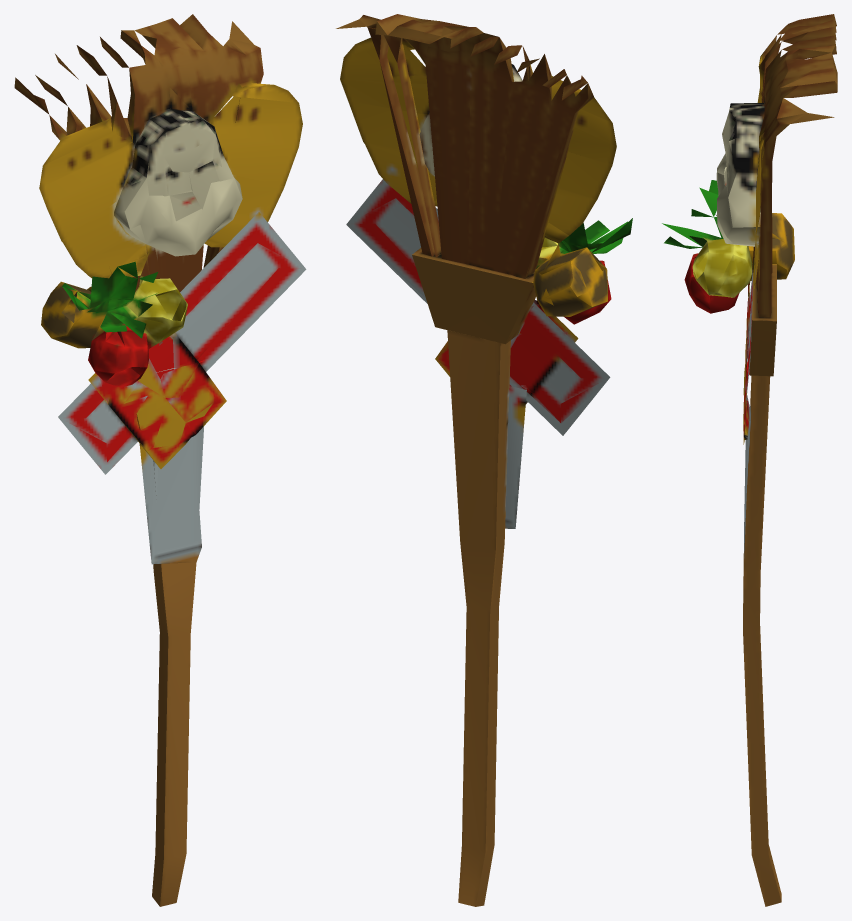
Rendered from mk_kumade.glb.
3 views of the same model, side by side, from view 1: azimuth 30°, elevation 25°; view 2: azimuth 150°, elevation 25°; view 3: azimuth 270°, elevation 25° (orthographic). The views are drawn at different scales.
Parts seen in each view (by area): view 1: mesh; view 2: mesh; view 3: mesh.
Boxes of the visible parts, x1,y1,x2,y2 form: mesh: (14,14,306,906); mesh: (336,14,632,906); mesh: (662,14,837,906).
Bounding box in the file's own units: 0.0991 × 0.306 × 0.0574.
Materials: 1 (1 with a texture image).
